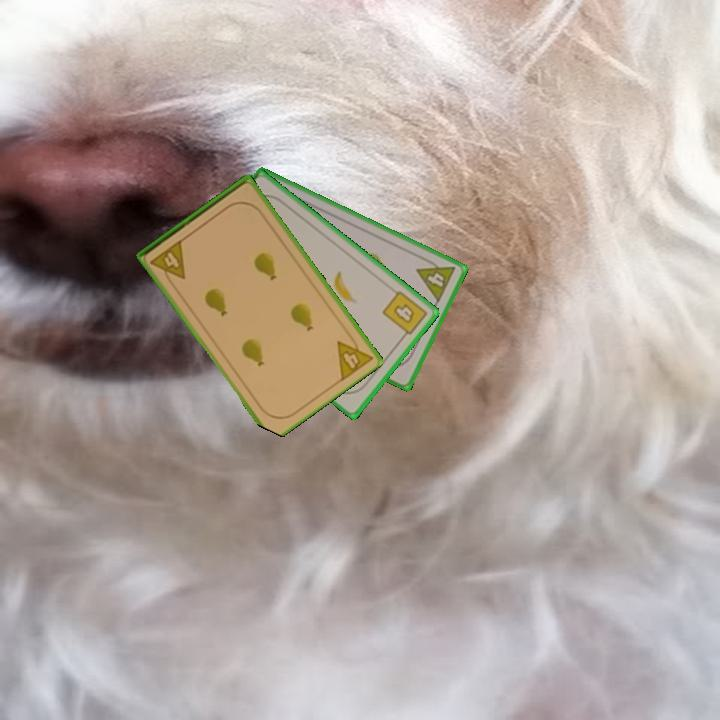4b: (379, 287, 430, 343)
4p: (333, 328, 376, 384), (413, 253, 459, 305), (147, 236, 189, 288)
